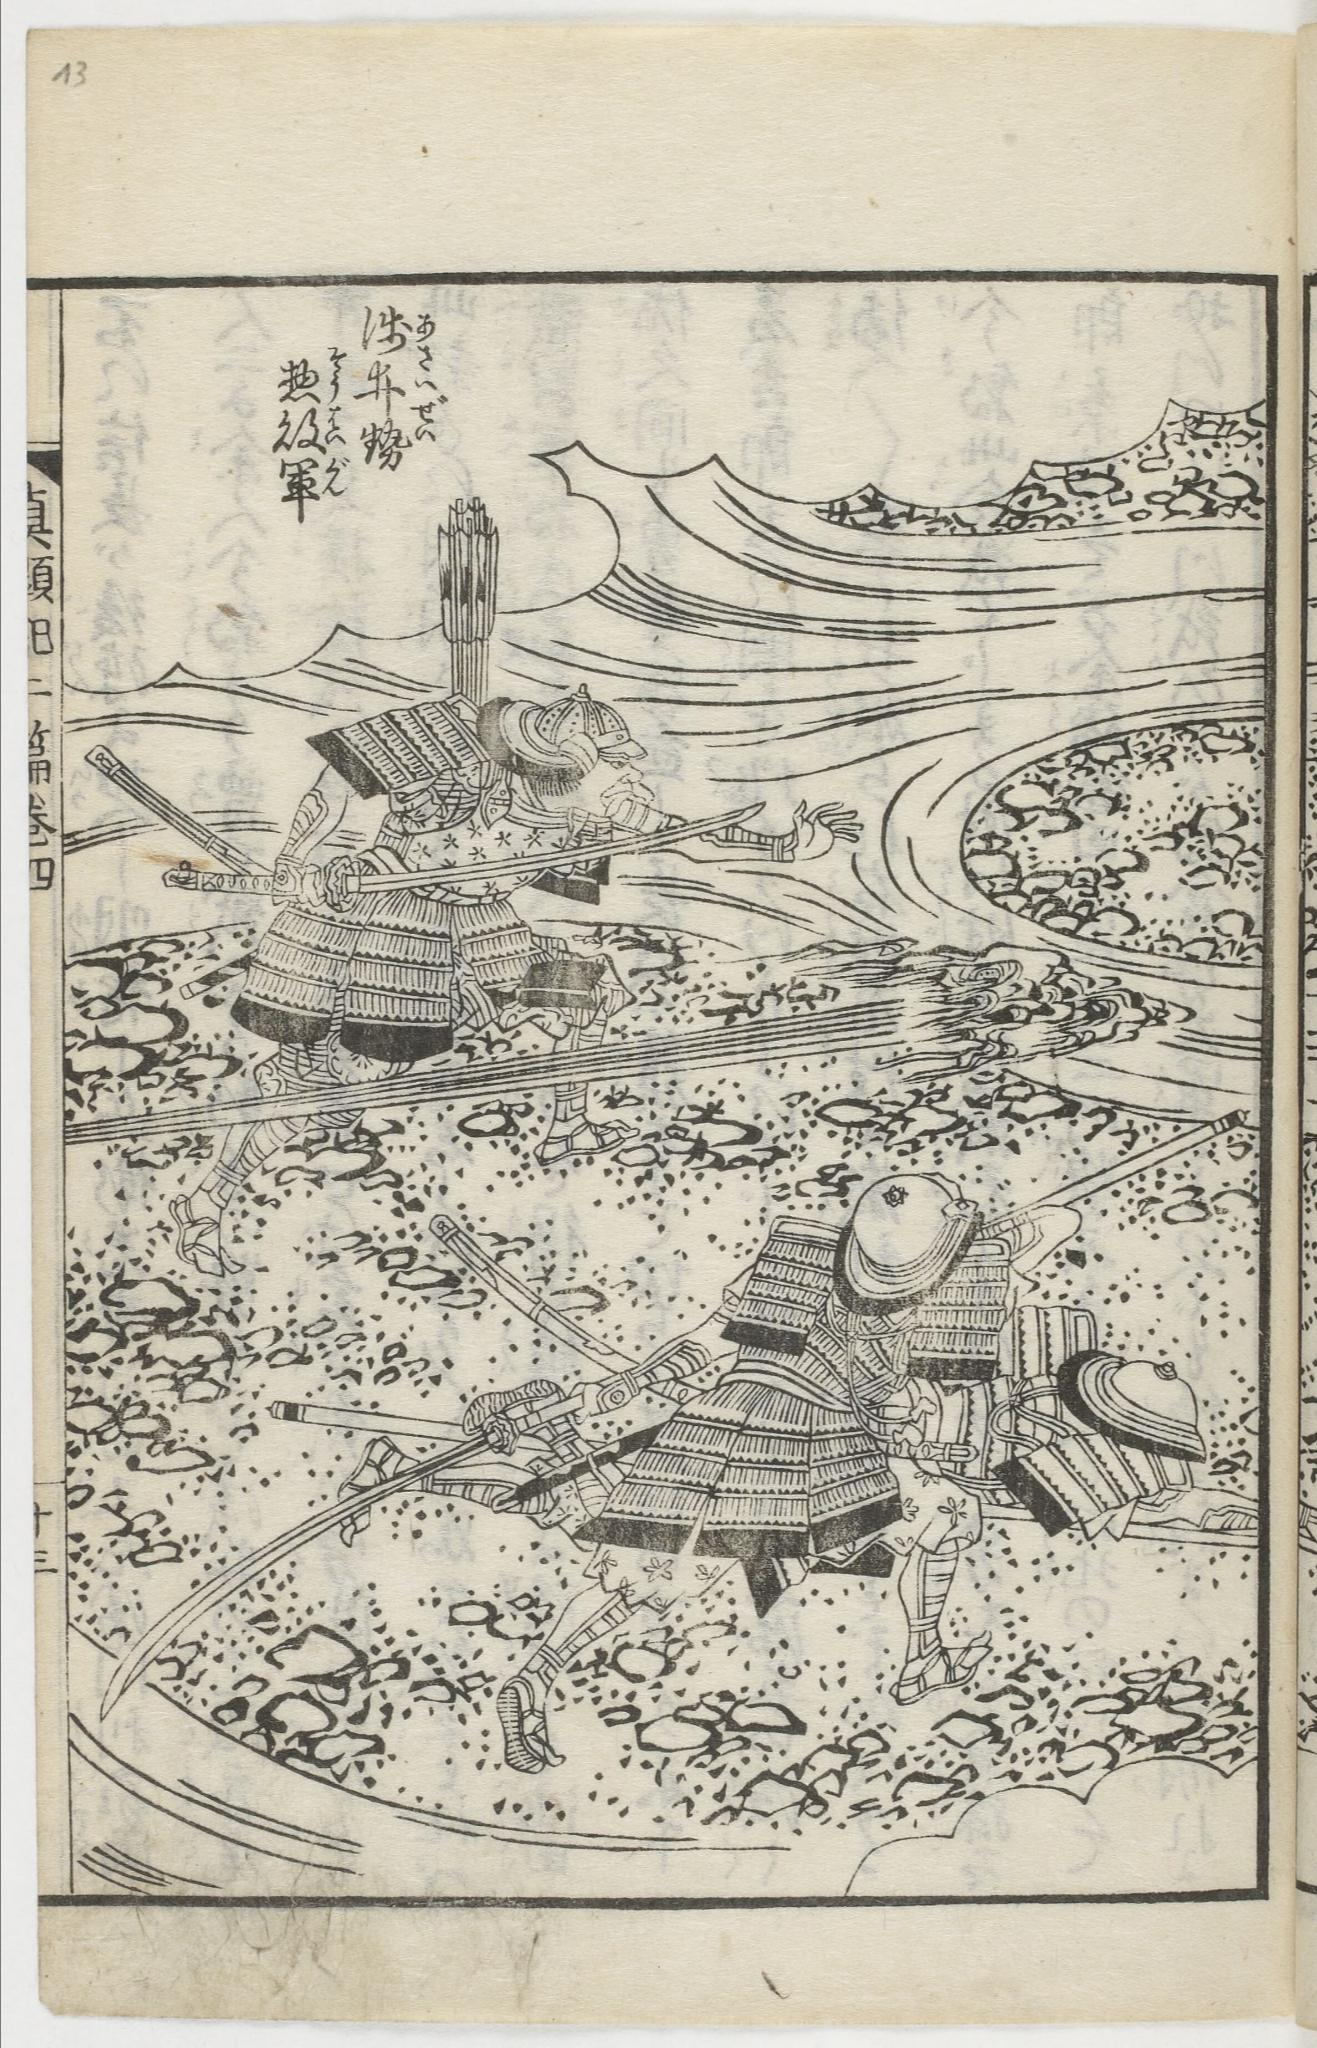MainZone-Character: (358, 399, 457, 472), (269, 451, 357, 527), (358, 305, 446, 367), (278, 342, 343, 403), (269, 405, 346, 452), (361, 360, 446, 399)
MainZone-Ruby: (412, 390, 454, 443), (321, 455, 360, 506), (409, 309, 436, 369), (324, 345, 348, 402), (326, 405, 348, 449), (409, 373, 445, 393)
